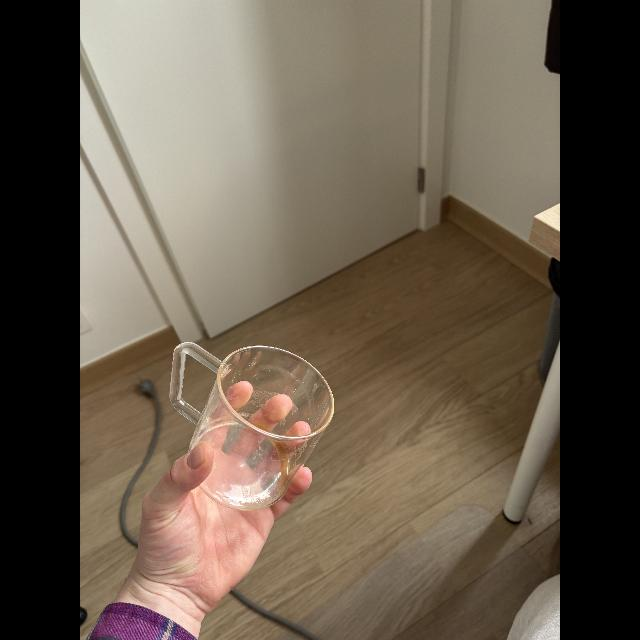Glass: (159, 334, 339, 516)
